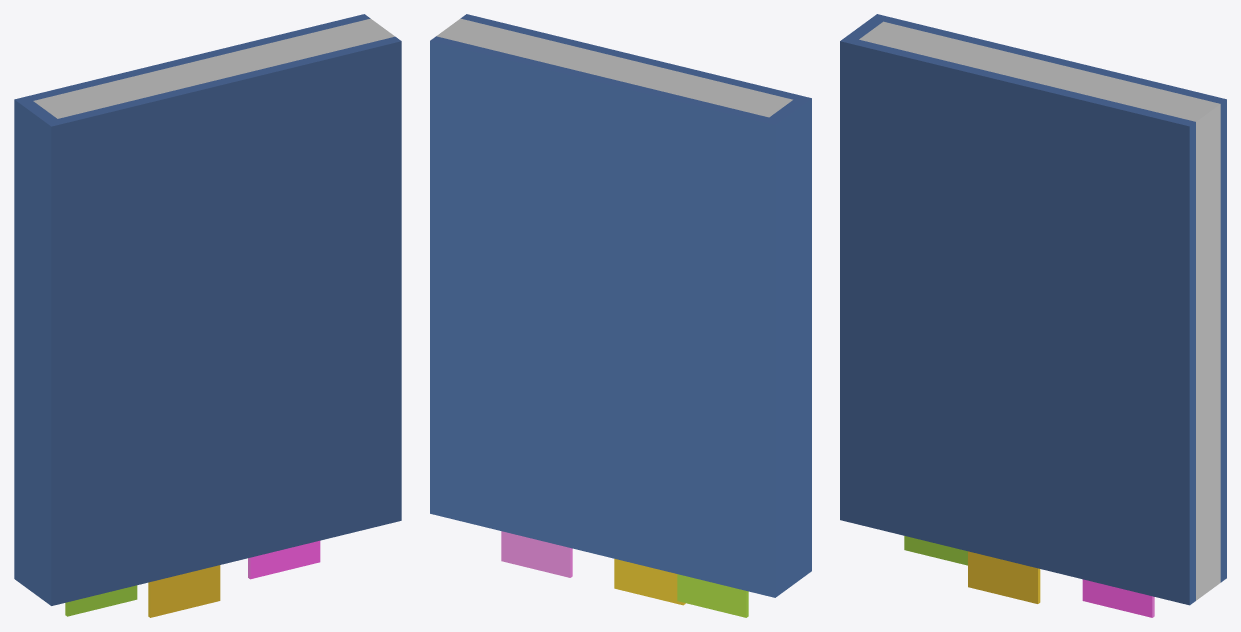
File: Book.glb
The picture shows the model from 3 angles, left to right: view 1: azimuth 30°, elevation 25°; view 2: azimuth 150°, elevation 25°; view 3: azimuth 330°, elevation 25°; orthographic projection.
Visible parts, largest first — view 1: SO_Book_01; view 2: SO_Book_01; view 3: SO_Book_01.
Part boxes in pixels (x1,y1,x2,y2): SO_Book_01: (14,14,401,617); SO_Book_01: (430,14,811,617); SO_Book_01: (840,14,1226,617).
Bounding box in the file's own units: 0.5169 × 0.7472 × 0.095.
1 material, 1 textured.
